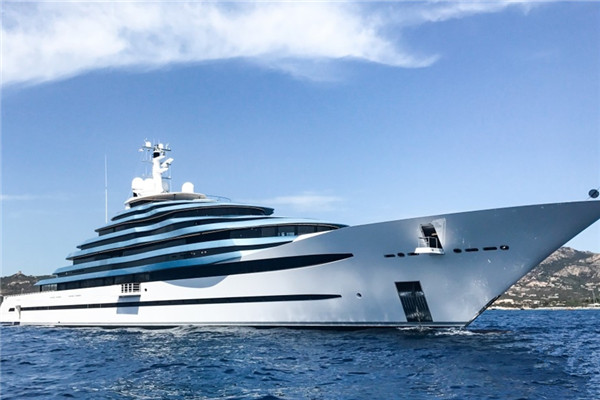yacht: (15, 141, 600, 328)
